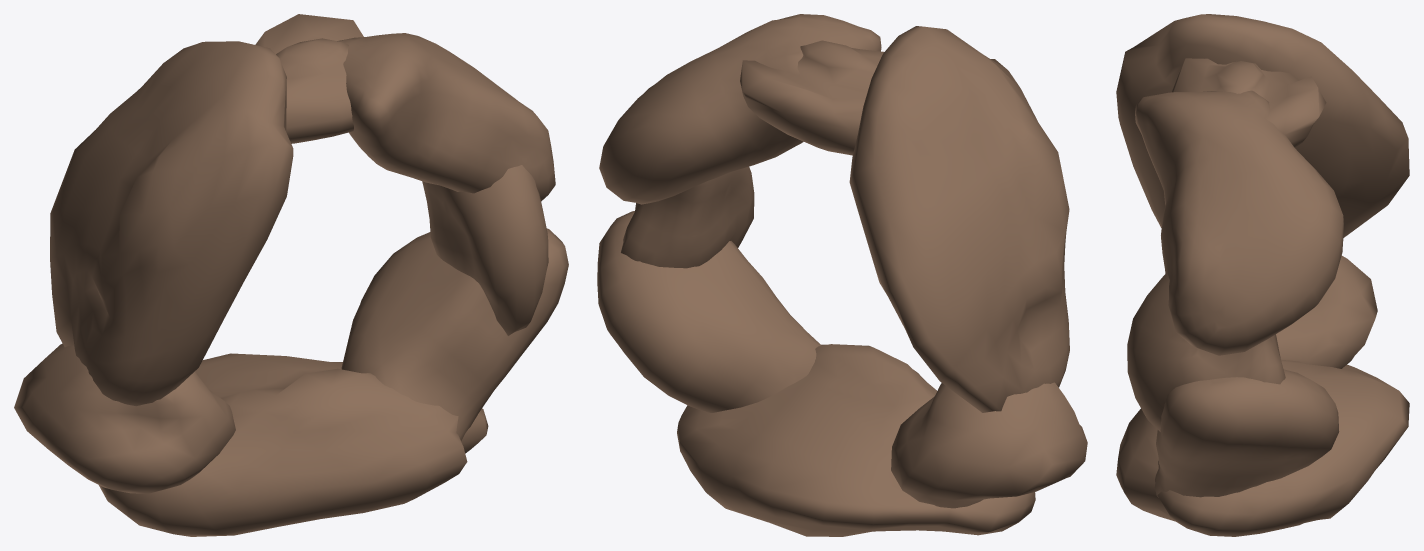
File: Tunnel_Divider.fbx
3 renders of one model, left to right at view 1: azimuth 30°, elevation 25°; view 2: azimuth 150°, elevation 25°; view 3: azimuth 270°, elevation 25°, orthographic. The views are drawn at different scales.
Parts seen in each view (by area): view 1: divider; view 2: divider; view 3: divider.
Part boxes in pixels (box(x1,y1,x2,y2)): divider: box(14, 14, 568, 536); divider: box(597, 14, 1087, 536); divider: box(1116, 14, 1409, 536).
Size of the model in its own units: 132 by 122 by 71.
